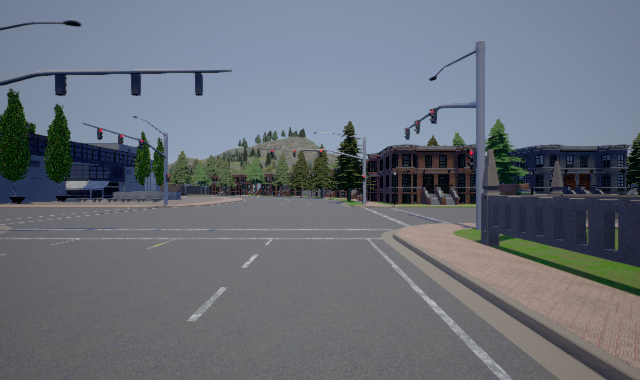traffic_light: (467, 148, 477, 170), (429, 108, 437, 124), (414, 120, 420, 134), (404, 128, 410, 140), (97, 128, 103, 140), (118, 134, 124, 144), (139, 140, 144, 149), (166, 174, 170, 182), (319, 150, 322, 157), (293, 150, 296, 157), (271, 150, 274, 157), (363, 175, 365, 182)
